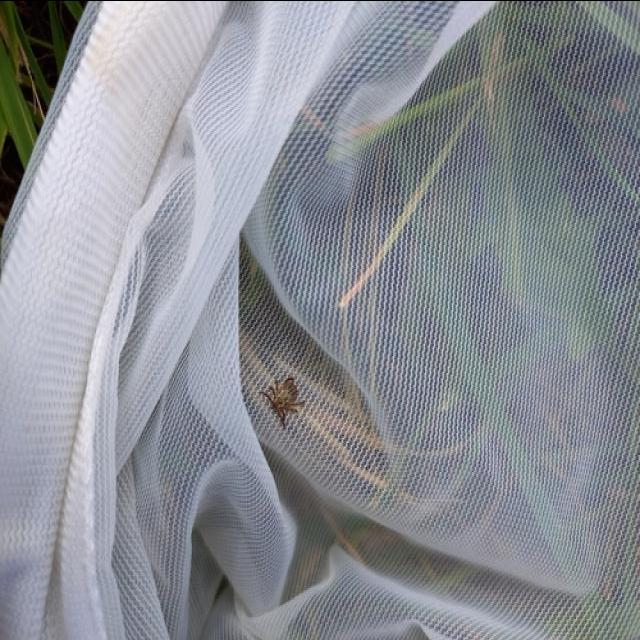Dermacentor Reticulatus-M: (265, 377, 306, 442)
